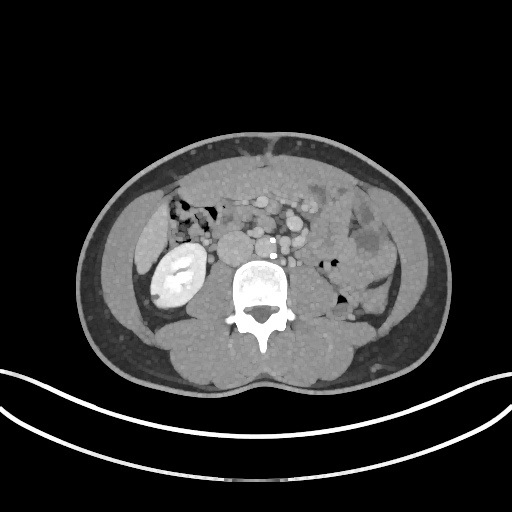Lesion: (147, 289, 163, 304)
